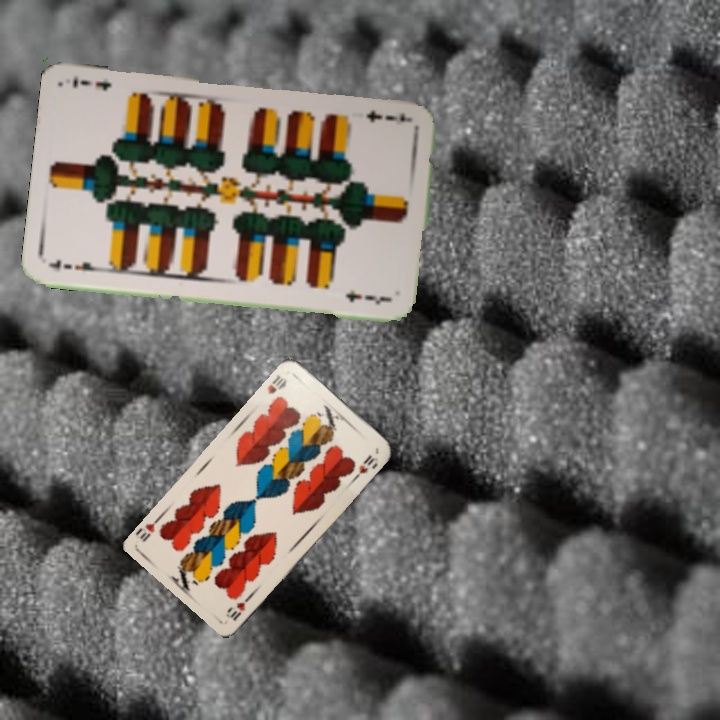E7: (45, 255, 105, 275), (362, 105, 413, 125)
H10: (222, 590, 256, 623), (263, 370, 290, 397)
